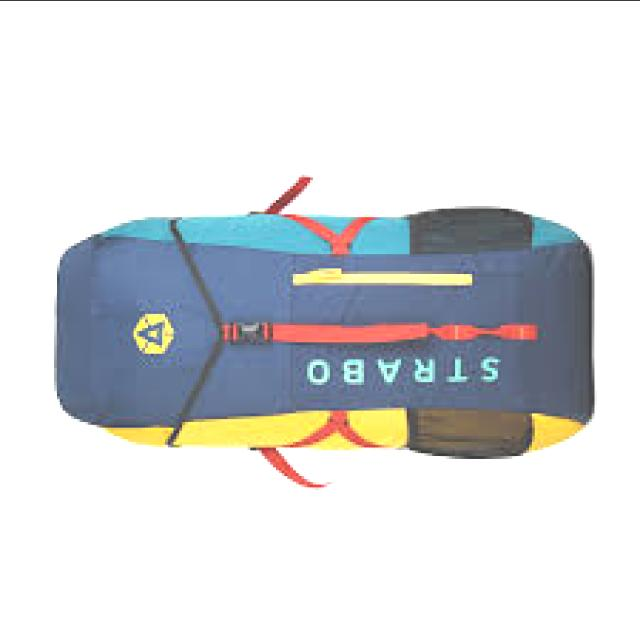backpack: (52, 177, 596, 493)
